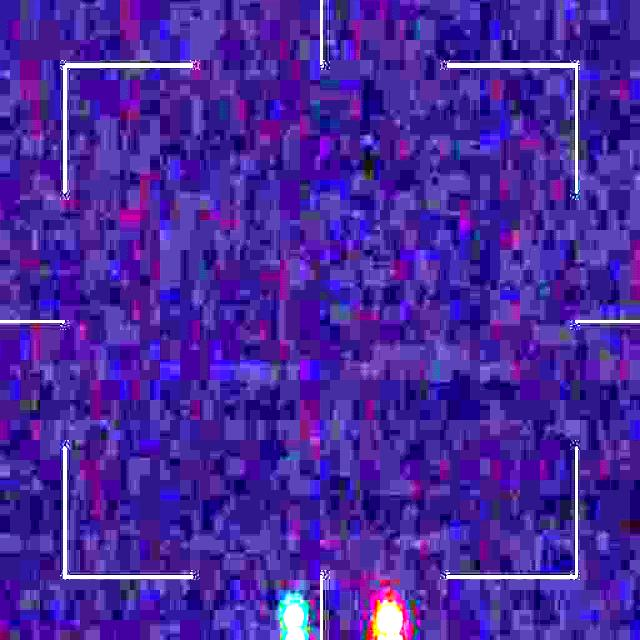bird: (282, 601, 405, 640)
